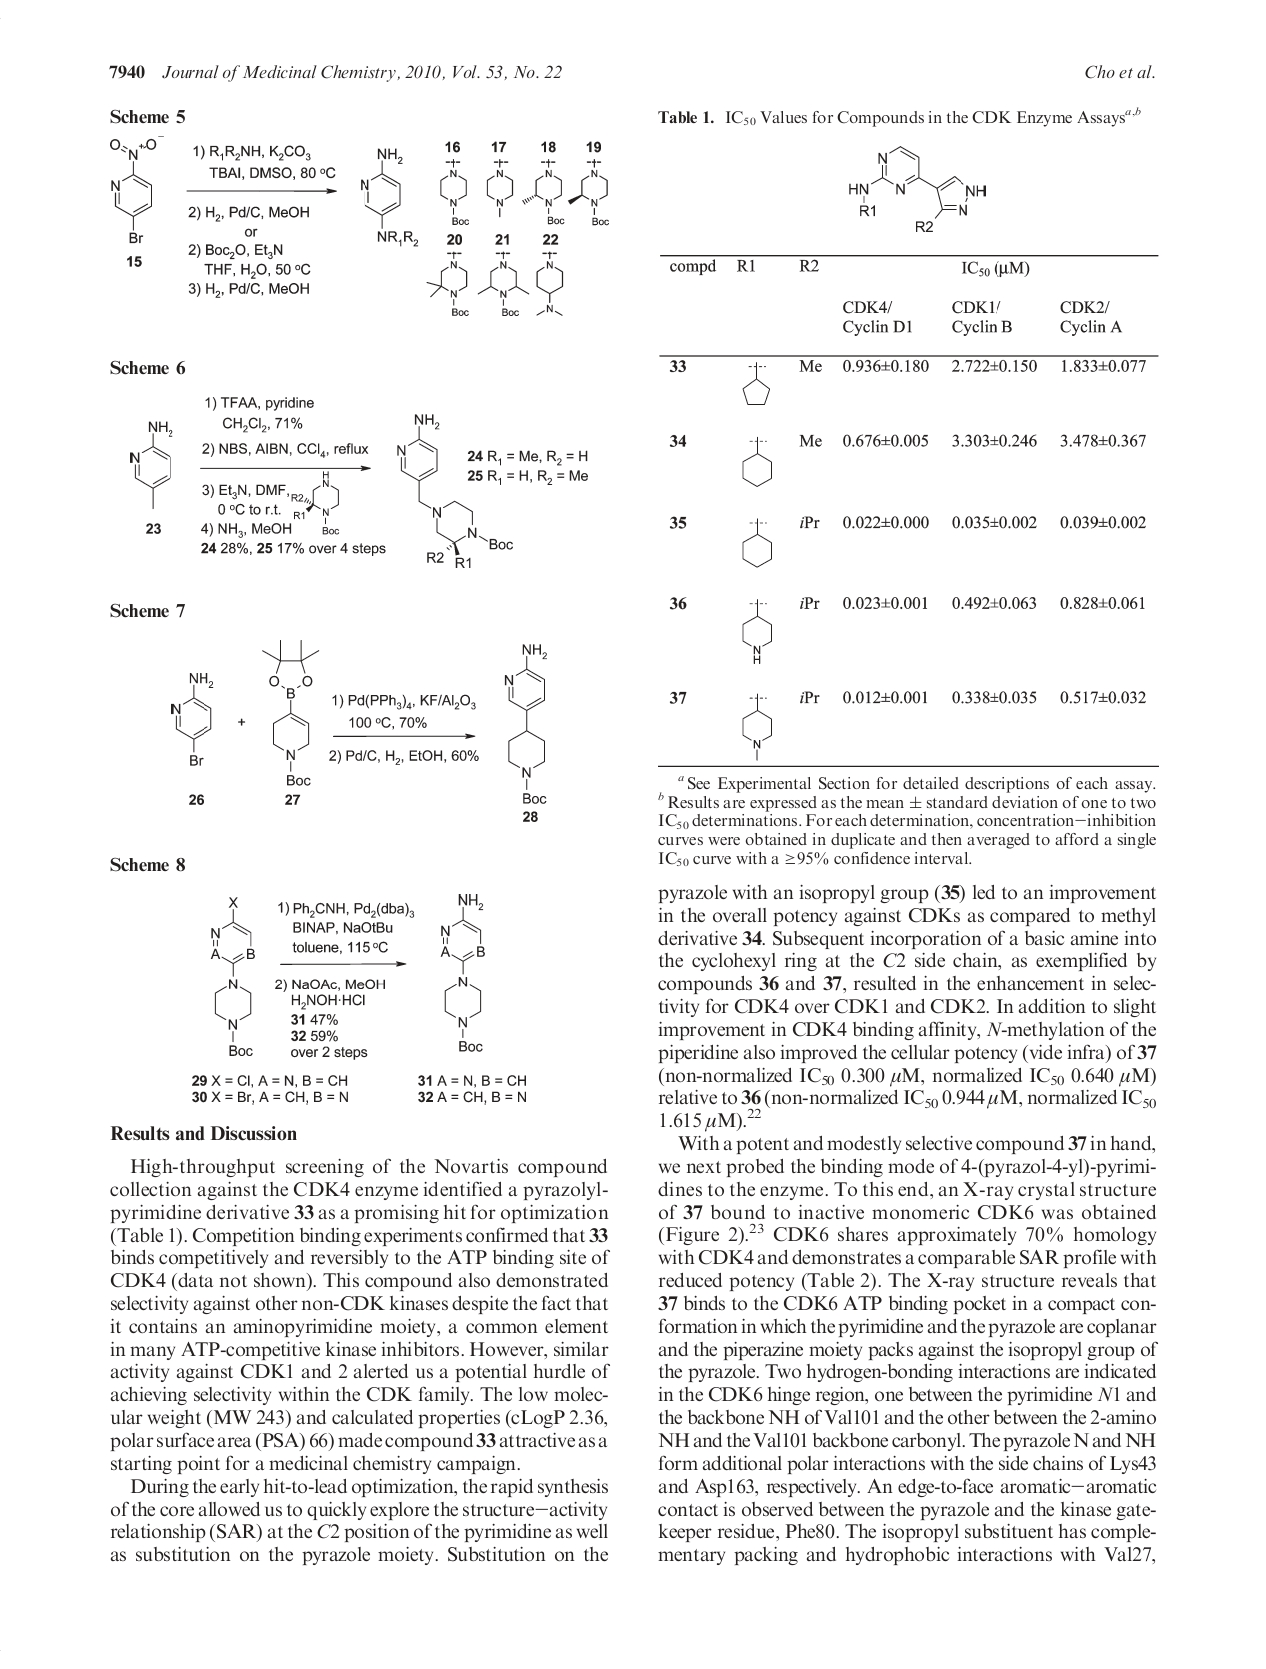exist_molecular: (396, 412, 515, 571), (847, 145, 989, 234), (259, 637, 320, 787), (207, 894, 257, 1059), (439, 892, 485, 1055), (503, 642, 548, 807), (359, 145, 422, 250), (106, 134, 164, 247), (169, 672, 215, 767), (128, 419, 173, 511), (476, 249, 531, 317), (567, 158, 614, 229), (519, 157, 567, 226), (426, 251, 471, 317), (438, 156, 471, 227), (742, 596, 775, 665), (742, 692, 773, 763), (533, 251, 567, 317), (484, 157, 515, 219), (741, 434, 775, 488), (741, 516, 773, 569), (742, 359, 770, 407)
